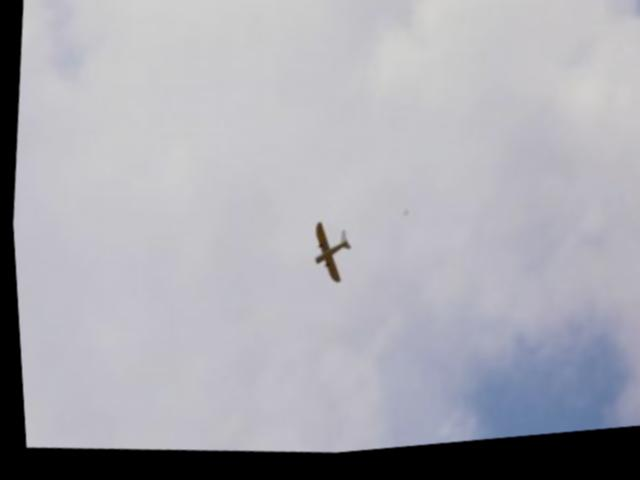uav: (305, 222, 351, 293)
